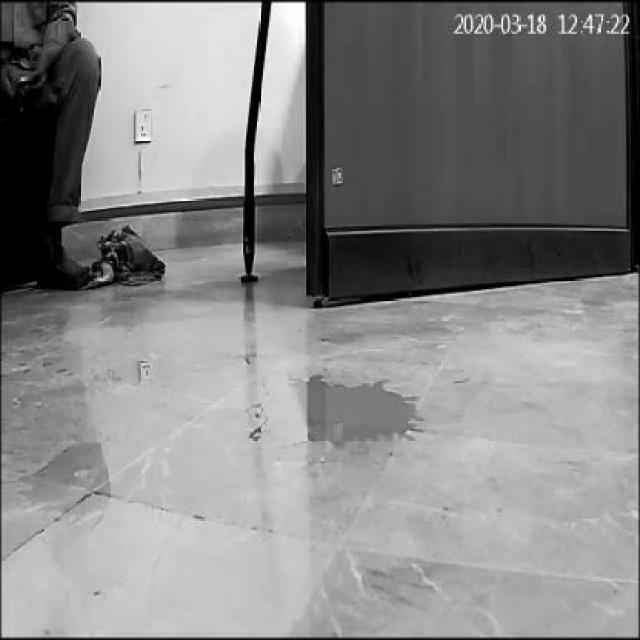spill: (246, 372, 448, 454)
